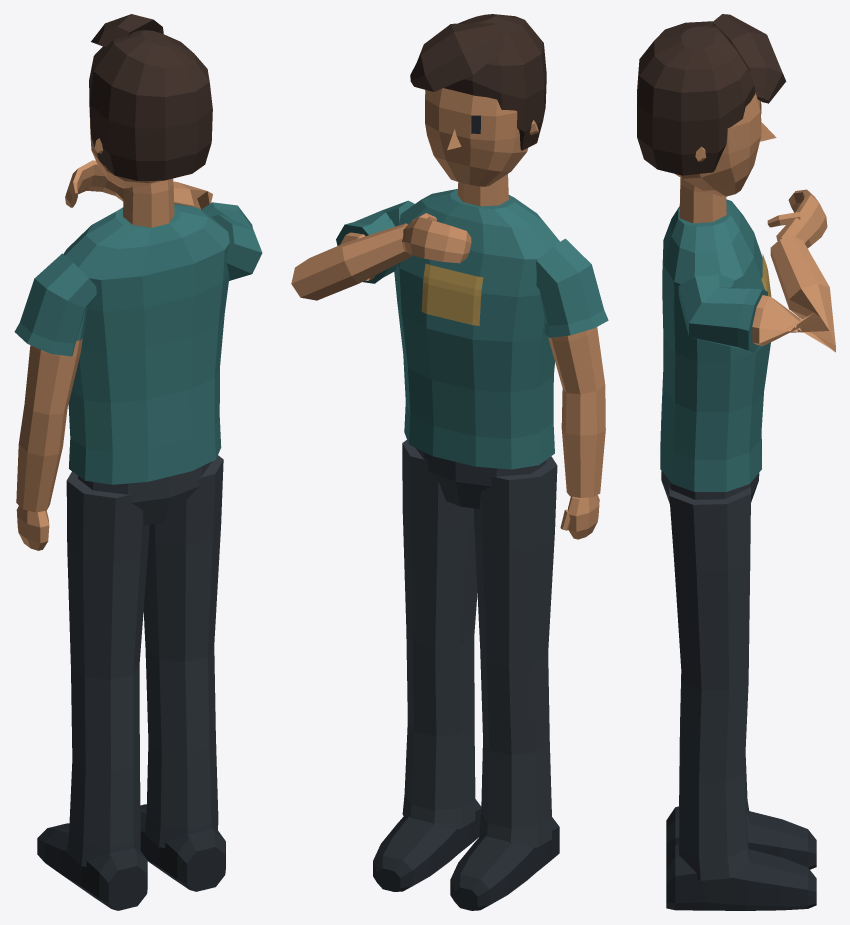
The model's file is lwf_attendee_male_drinking_soft_v2.glb.
The picture shows the model from 3 angles, left to right: view 1: azimuth 30°, elevation 25°; view 2: azimuth 150°, elevation 25°; view 3: azimuth 270°, elevation 25°; orthographic projection.
Visible parts, largest first — view 1: Attendee_male_drinking_soft_v6; view 2: Attendee_male_drinking_soft_v6; view 3: Attendee_male_drinking_soft_v6.
Part boxes in pixels (<box>): Attendee_male_drinking_soft_v6: <box>14,14,262,910</box>; Attendee_male_drinking_soft_v6: <box>291,14,608,910</box>; Attendee_male_drinking_soft_v6: <box>637,14,835,910</box>.
Size of the model in its own units: 0.5469 by 1.78 by 0.3723.
Materials: 1 (1 with a texture image).
